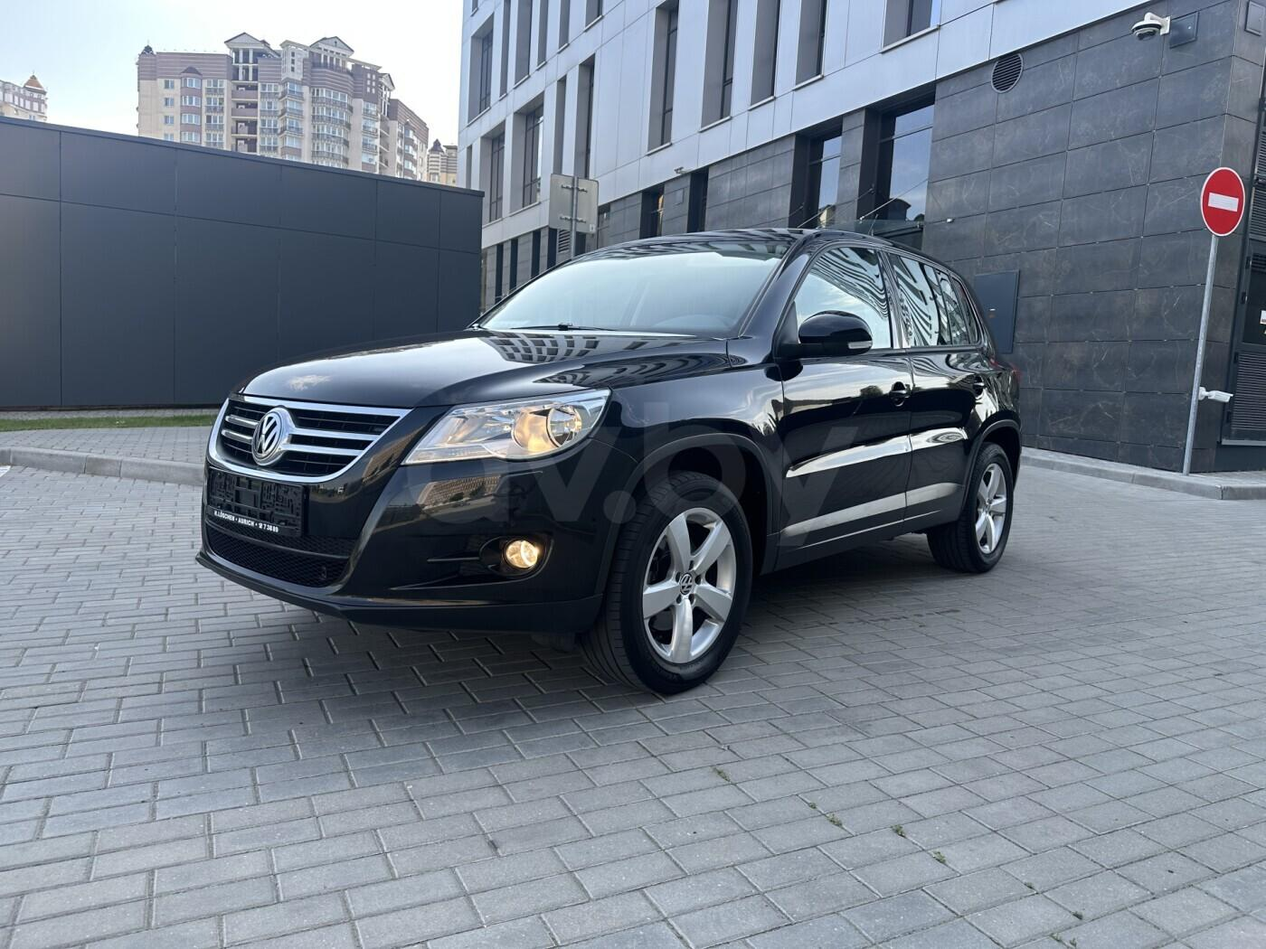Tiguan_2007-2011: (195, 219, 1028, 704)
